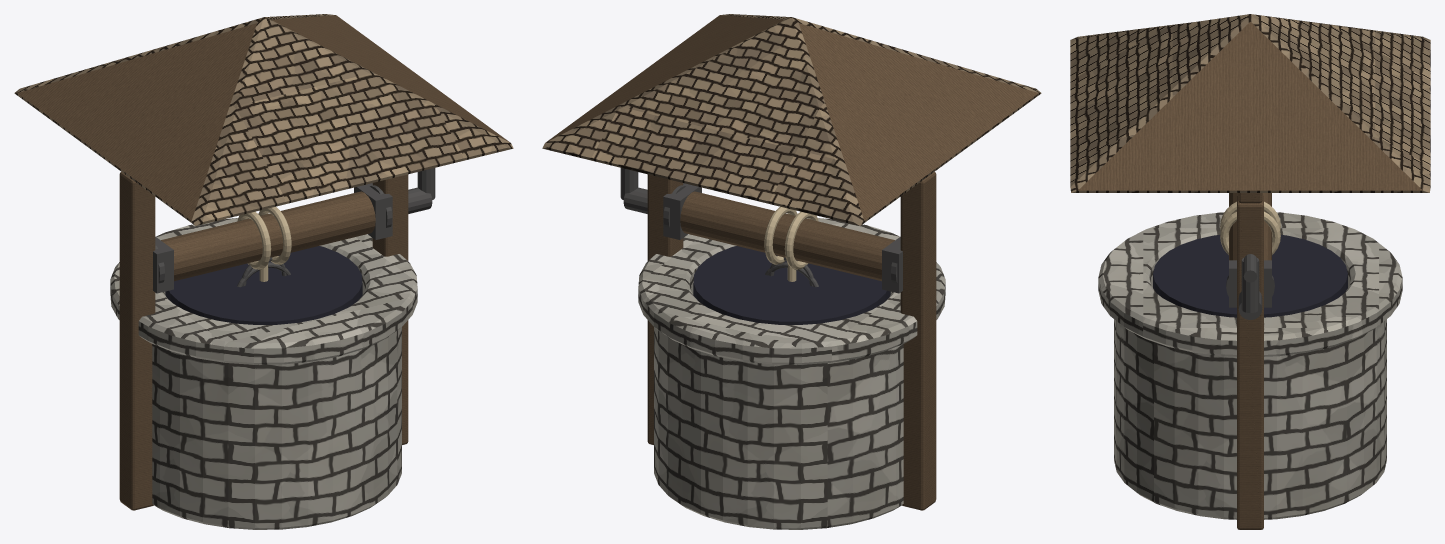
File: stone-well.glb
The picture shows the model from 3 angles, left to right: view 1: azimuth 30°, elevation 25°; view 2: azimuth 150°, elevation 25°; view 3: azimuth 270°, elevation 25°; orthographic projection.
Parts seen in each view (by area): view 1: Roof, WellStone, TimberFrame, WellVoid, bracket.001, bracket, ropeWrap, ropeWrap.001; view 2: Roof, WellStone, TimberFrame, WellVoid, bracket.001, bracket, ropeWrap, ropeWrap.001; view 3: Roof, WellStone, WellVoid, TimberFrame, bracket.001, crankArm, ropeWrap.001.
Boxes of the visible parts, box(x1,y1,x2,y2) form: Roof: box(14, 14, 513, 225); WellStone: box(110, 218, 417, 529); TimberFrame: box(119, 172, 408, 510); WellVoid: box(165, 246, 362, 324); bracket.001: box(354, 183, 392, 239); bracket: box(153, 236, 173, 293); ropeWrap: box(237, 211, 271, 269); ropeWrap.001: box(258, 206, 291, 264); Roof: box(542, 14, 1041, 225); WellStone: box(638, 218, 945, 529); TimberFrame: box(647, 172, 936, 510); WellVoid: box(693, 246, 890, 324); bracket.001: box(663, 183, 701, 239); bracket: box(882, 236, 902, 293); ropeWrap: box(784, 211, 818, 269); ropeWrap.001: box(764, 206, 797, 264); Roof: box(1070, 14, 1430, 192); WellStone: box(1098, 212, 1402, 519); WellVoid: box(1153, 234, 1347, 317); TimberFrame: box(1229, 193, 1271, 529); bracket.001: box(1229, 260, 1271, 307); crankArm: box(1241, 258, 1259, 313); ropeWrap.001: box(1220, 211, 1280, 254).
Bounding box in the file's own units: 2.08 × 2.55 × 1.85.
Materials: 6 (3 with a texture image).
